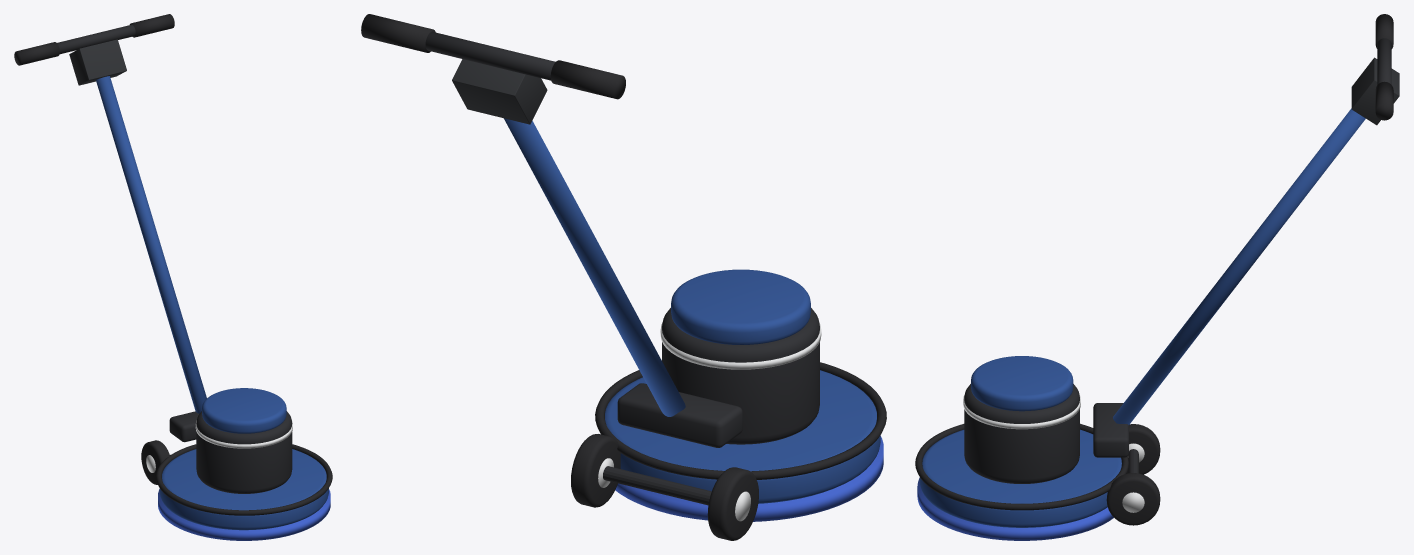
Rendered from Monobrosse.fbx.
3 renders of one model, left to right at view 1: azimuth 30°, elevation 25°; view 2: azimuth 150°, elevation 25°; view 3: azimuth 270°, elevation 25°, orthographic. The views are drawn at different scales.
Parts seen in each view (by area): view 1: Mono_Skirt, Mono_Motor, Mono_Shaft, Mono_Cap, Mono_Pad, Mono_Bumper, Mono_ControlBox, Mono_Handlebar, Mono_Yoke, Mono_Grip_R, Mono_Wheel_R, Mono_Grip_L (+1 smaller); view 2: Mono_Skirt, Mono_Motor, Mono_Cap, Mono_Shaft, Mono_Yoke, Mono_Bumper, Mono_Pad, Mono_ControlBox, Mono_Wheel_R, Mono_Handlebar, Mono_Wheel_L, Mono_Grip_R (+3 smaller); view 3: Mono_Skirt, Mono_Motor, Mono_Shaft, Mono_Cap, Mono_Pad, Mono_Bumper, Mono_Wheel_L, Mono_Yoke, Mono_ControlBox, Mono_Wheel_R, Mono_Band, Mono_Grip_L (+1 smaller).
Part boxes in pixels (x1=…): Mono_Skirt: x1=159, y1=449, x2=328, y2=530; Mono_Motor: x1=196, y1=411, x2=292, y2=493; Mono_Shaft: x1=96, y1=76, x2=206, y2=413; Mono_Cap: x1=202, y1=388, x2=286, y2=433; Mono_Pad: x1=158, y1=489, x2=330, y2=540; Mono_Bumper: x1=156, y1=444, x2=332, y2=515; Mono_ControlBox: x1=69, y1=39, x2=126, y2=85; Mono_Handlebar: x1=57, y1=24, x2=135, y2=54; Mono_Yoke: x1=169, y1=411, x2=198, y2=442; Mono_Grip_R: x1=14, y1=42, x2=59, y2=65; Mono_Wheel_R: x1=141, y1=440, x2=169, y2=484; Mono_Grip_L: x1=129, y1=14, x2=174, y2=37; Mono_Skirt: x1=605, y1=370, x2=880, y2=503; Mono_Motor: x1=662, y1=308, x2=819, y2=444; Mono_Cap: x1=671, y1=269, x2=810, y2=344; Mono_Shaft: x1=504, y1=118, x2=685, y2=416; Mono_Yoke: x1=617, y1=383, x2=742, y2=447; Mono_Bumper: x1=595, y1=362, x2=886, y2=479; Mono_Pad: x1=615, y1=436, x2=883, y2=521; Mono_ControlBox: x1=452, y1=59, x2=547, y2=124; Mono_Wheel_R: x1=707, y1=467, x2=758, y2=540; Mono_Handlebar: x1=425, y1=31, x2=555, y2=80; Mono_Wheel_L: x1=571, y1=434, x2=620, y2=507; Mono_Grip_R: x1=550, y1=60, x2=625, y2=99; Mono_Skirt: x1=919, y1=429, x2=1121, y2=527; Mono_Motor: x1=964, y1=384, x2=1079, y2=483; Mono_Shaft: x1=1113, y1=108, x2=1365, y2=424; Mono_Cap: x1=971, y1=356, x2=1073, y2=411; Mono_Pad: x1=917, y1=478, x2=1113, y2=540; Mono_Bumper: x1=915, y1=423, x2=1128, y2=510; Mono_Wheel_L: x1=1106, y1=473, x2=1160, y2=525; Mono_Yoke: x1=1093, y1=403, x2=1128, y2=457; Mono_ControlBox: x1=1351, y1=57, x2=1399, y2=125; Mono_Wheel_R: x1=1126, y1=424, x2=1160, y2=474; Mono_Band: x1=963, y1=395, x2=1080, y2=429; Mono_Grip_L: x1=1375, y1=81, x2=1393, y2=120.
Size of the model in its own units: 0.48 by 1.09 by 1.09.
